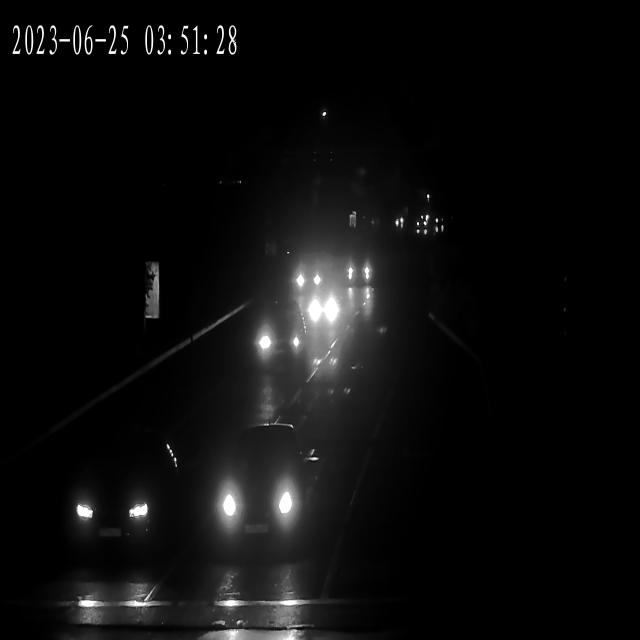Car: (63, 441, 178, 557), (205, 433, 309, 547), (250, 310, 312, 366), (300, 289, 341, 327), (290, 260, 326, 294), (344, 253, 377, 289), (388, 220, 404, 238), (412, 222, 431, 235), (430, 222, 449, 235), (428, 222, 446, 234)
